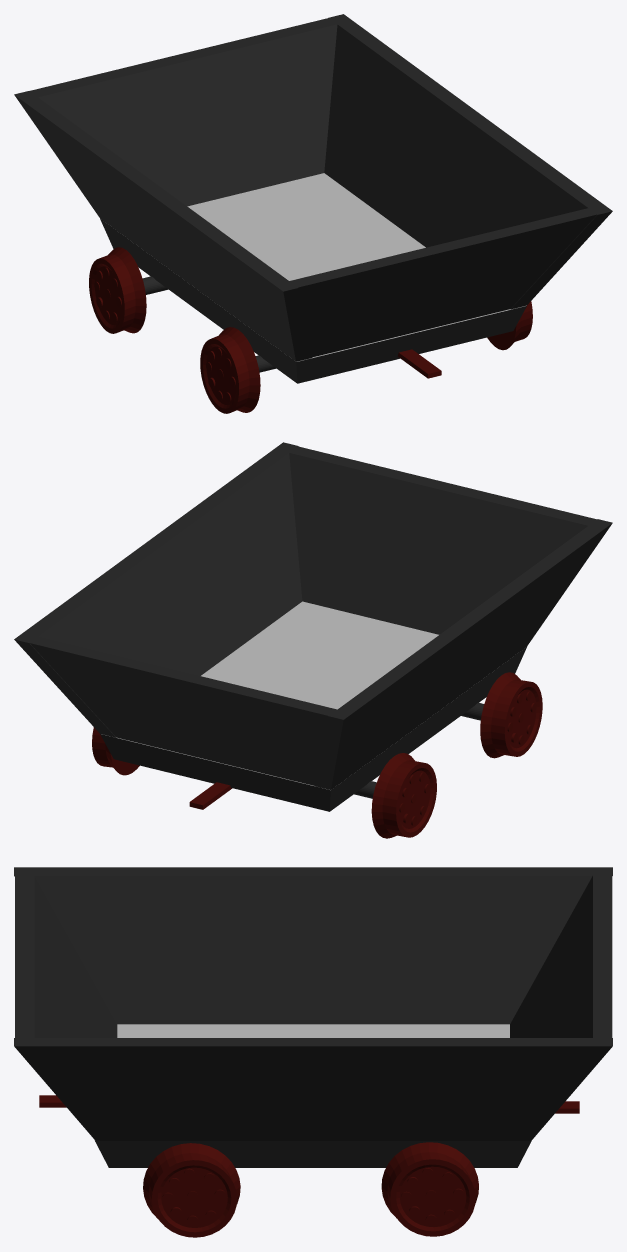
Rendered from cart1.fbx.
3 renders of one model, top to bottom at view 1: azimuth 30°, elevation 25°; view 2: azimuth 150°, elevation 25°; view 3: azimuth 270°, elevation 25°, orthographic. The views are drawn at different scales.
Parts seen in each view (by area): view 1: Grid.002, Grid.001, Grid, Grid.003, Grid.004, Cylinder.003, Cylinder.012, Cylinder.002, Cube.002; view 2: Grid.003, Grid.001, Grid, Grid.002, Grid.004, Cylinder.012, Cylinder.003, Cylinder.001, Cube.001; view 3: Grid.004, Grid.001, Grid, Grid.003, Grid.002, Cylinder.002, Cylinder.001.
Boxes of the visible parts, x1,y1,x2,y2 form: Grid.002: (30,16,343,206); Grid.001: (324,14,612,309); Grid: (100,173,526,383); Grid.003: (281,206,603,357); Grid.004: (14,91,312,361); Cylinder.003: (200,327,260,413); Cylinder.012: (89,247,146,333); Cylinder.002: (487,301,532,350); Cube.002: (397,349,441,378); Grid.003: (283,444,604,634); Grid.001: (14,442,302,737); Grid: (100,601,527,811); Grid.002: (23,635,338,785); Grid.004: (314,519,612,789); Cylinder.012: (371,753,436,838); Cylinder.003: (480,672,542,758); Cylinder.001: (92,727,139,775); Cube.001: (189,782,232,809); Grid.004: (14,867,612,1024); Grid.001: (14,1038,612,1140); Grid: (94,1024,531,1167); Grid.003: (15,871,117,1041); Grid.002: (510,875,612,1041); Cylinder.002: (143,1143,240,1237); Cylinder.001: (381,1142,478,1236).
Size of the model in its own units: 305 by 164 by 432.
